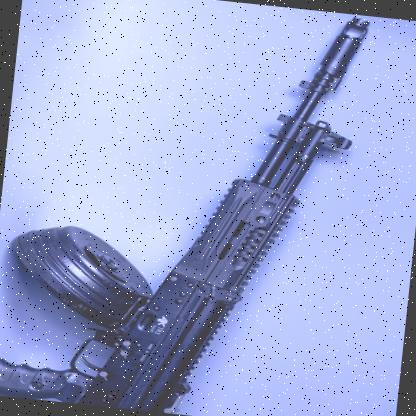rifle: (0, 0, 397, 416)
